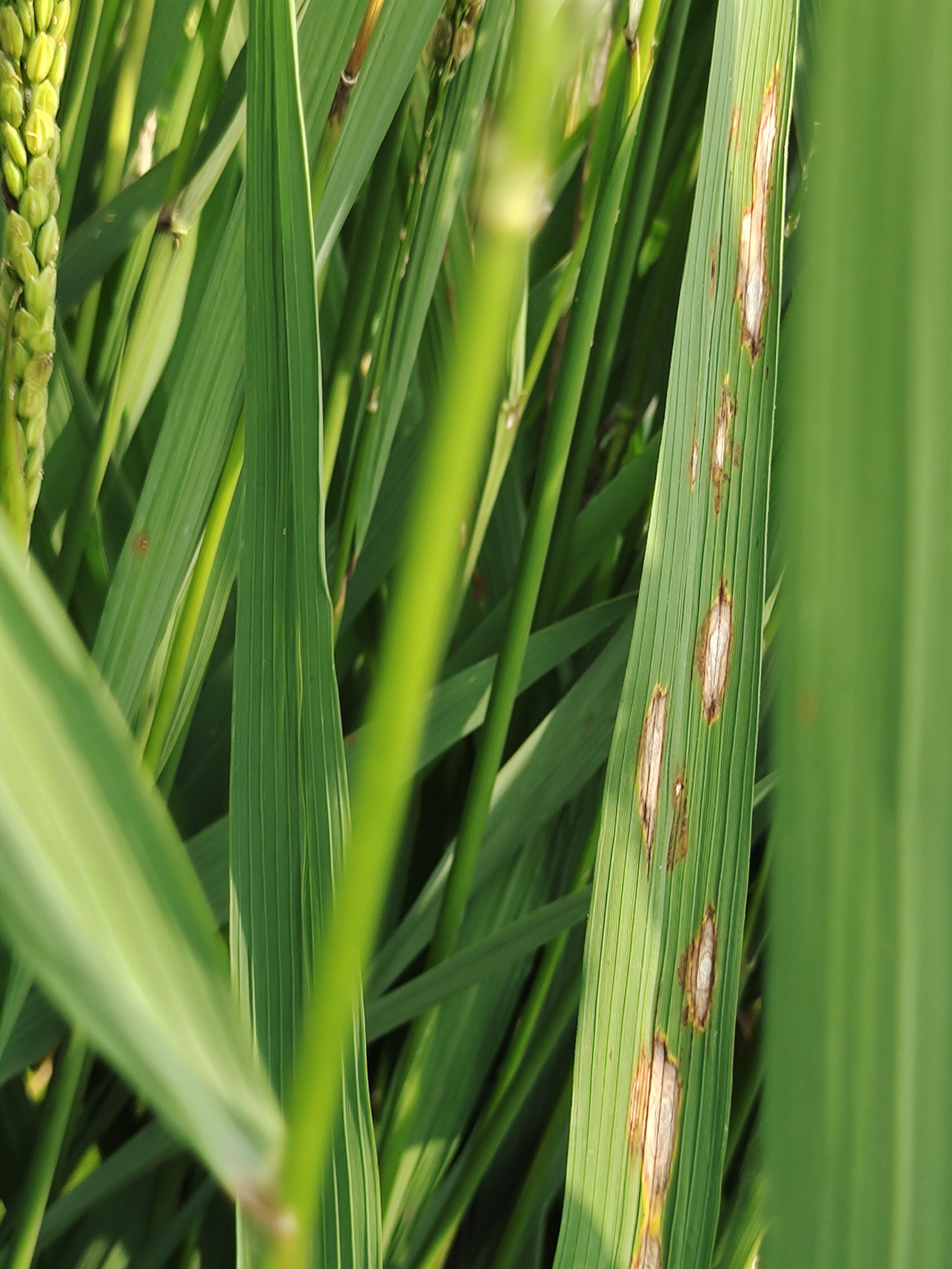LEAF BLAST: (735, 71, 777, 363), (627, 1032, 681, 1225), (636, 685, 668, 865), (696, 578, 732, 723), (677, 903, 716, 1030), (712, 386, 728, 489), (631, 1231, 661, 1269), (691, 442, 698, 483), (715, 480, 720, 515)
